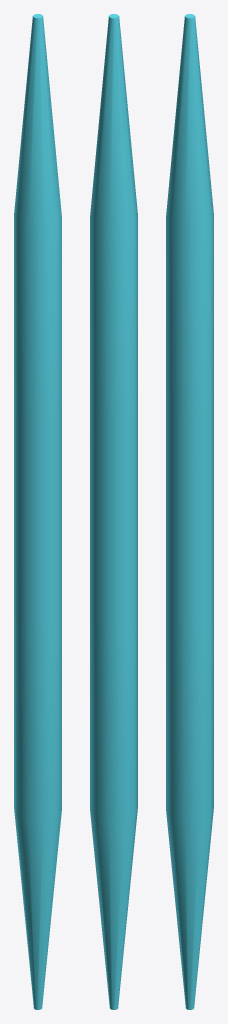
The model's file is LongLaser_C.obj.
The picture shows the model from 3 angles, left to right: view 1: azimuth 30°, elevation 25°; view 2: azimuth 150°, elevation 25°; view 3: azimuth 330°, elevation 25°; orthographic projection.
Visible parts, largest first — view 1: cylinder; view 2: cylinder; view 3: cylinder.
Part boxes in pixels (x1,y1,x2,y2): cylinder: (14, 14, 61, 1009); cylinder: (90, 14, 137, 1009); cylinder: (166, 14, 213, 1009).
Size of the model in its own units: 0.8876 by 20.24 by 0.8442.
